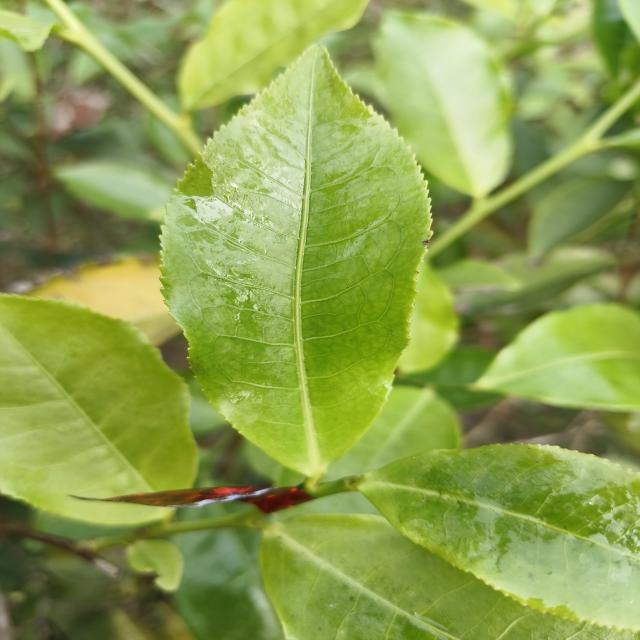Leaf: (162, 47, 430, 477), (360, 444, 640, 631), (259, 514, 640, 640), (0, 295, 197, 524), (374, 11, 512, 199), (177, 0, 368, 111), (476, 303, 640, 411), (326, 385, 461, 481), (528, 178, 631, 258), (55, 161, 172, 222), (127, 539, 184, 592), (296, 492, 380, 515)
